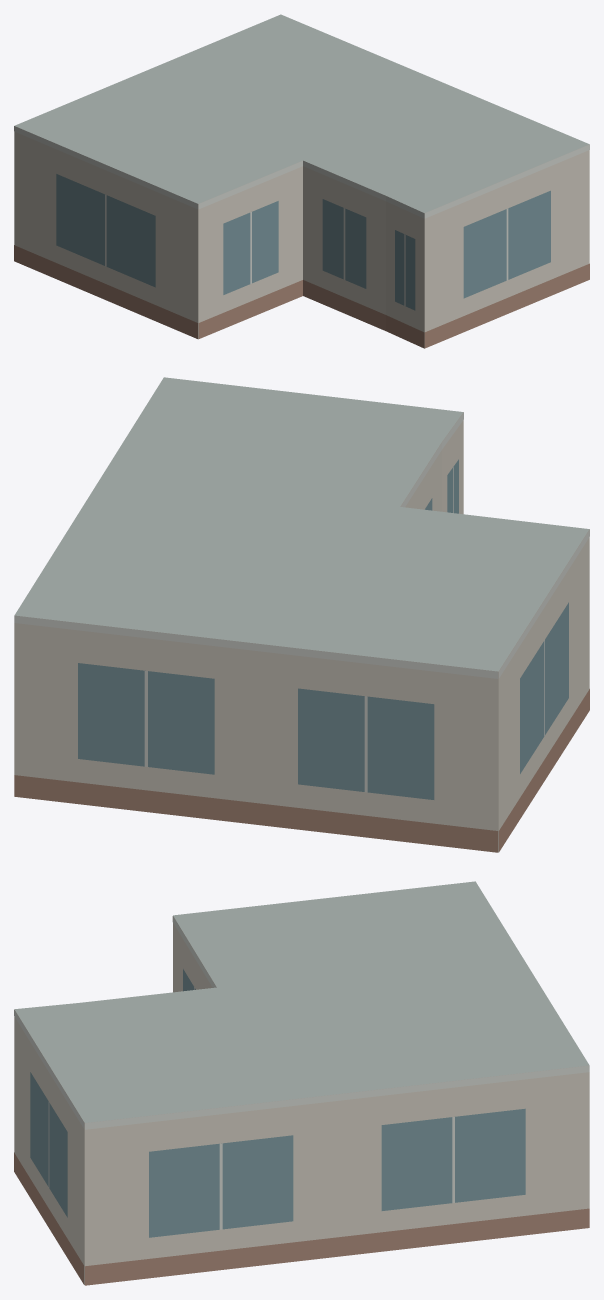
Rendered from survey-upis-32694388.glb.
3 views of the same model, one above another, from view 1: azimuth 30°, elevation 25°; view 2: azimuth 150°, elevation 25°; view 3: azimuth 270°, elevation 25° (orthographic). The views are drawn at different scales.
Parts seen in each view (by area): view 1: survey-upis-32694388.tmp; view 2: survey-upis-32694388.tmp; view 3: survey-upis-32694388.tmp.
Boxes of the visible parts, bbox=[...] form: survey-upis-32694388.tmp: bbox=[14, 14, 589, 348]; survey-upis-32694388.tmp: bbox=[14, 377, 589, 852]; survey-upis-32694388.tmp: bbox=[14, 881, 589, 1285].
Bounding box in the file's own units: 9.75 × 3.05 × 9.8.
